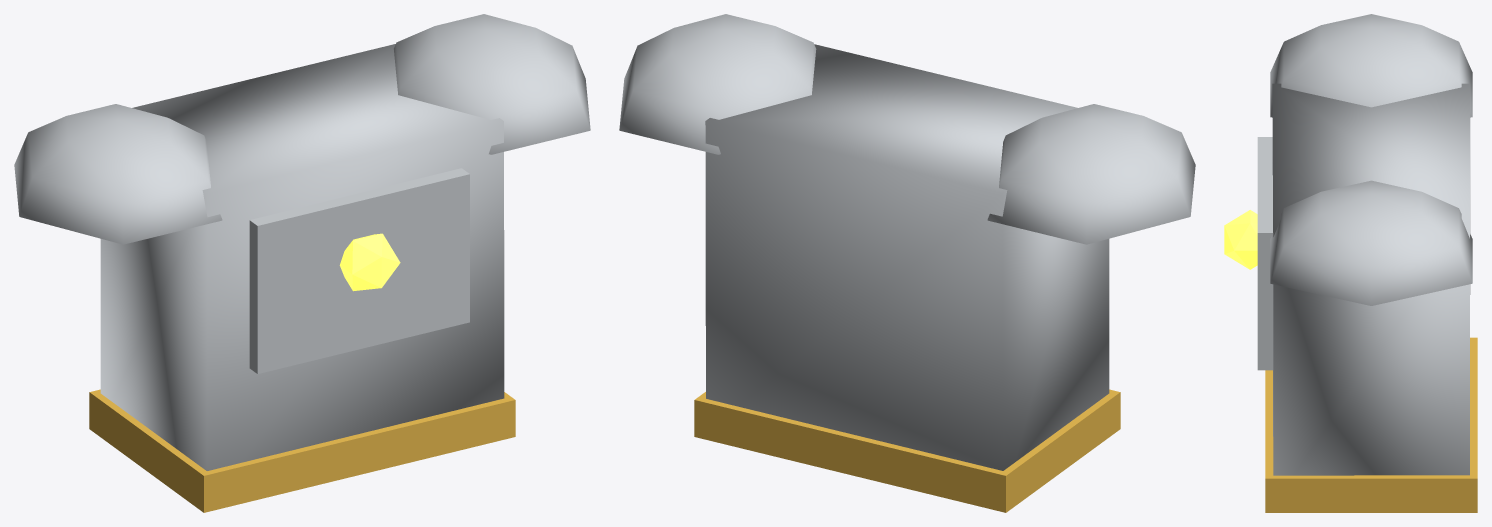
Rendered from armor_t3.glb.
3 views of the same model, side by side, from view 1: azimuth 30°, elevation 25°; view 2: azimuth 150°, elevation 25°; view 3: azimuth 270°, elevation 25° (orthographic). The views are drawn at different scales.
Visible parts, largest first — view 1: item_metal3, item_trim3, item_gem3; view 2: item_metal3, item_trim3; view 3: item_metal3, item_trim3, item_gem3.
Part boxes in pixels (box(x1,y1,x2,y2)): item_metal3: box(14, 14, 590, 470); item_trim3: box(89, 389, 515, 512); item_gem3: box(339, 233, 400, 291); item_metal3: box(619, 14, 1195, 470); item_trim3: box(694, 389, 1120, 512); item_metal3: box(1257, 14, 1472, 475); item_trim3: box(1265, 337, 1477, 512); item_gem3: box(1224, 210, 1257, 269).
Size of the model in its own units: 0.8 by 0.483 by 0.334.
